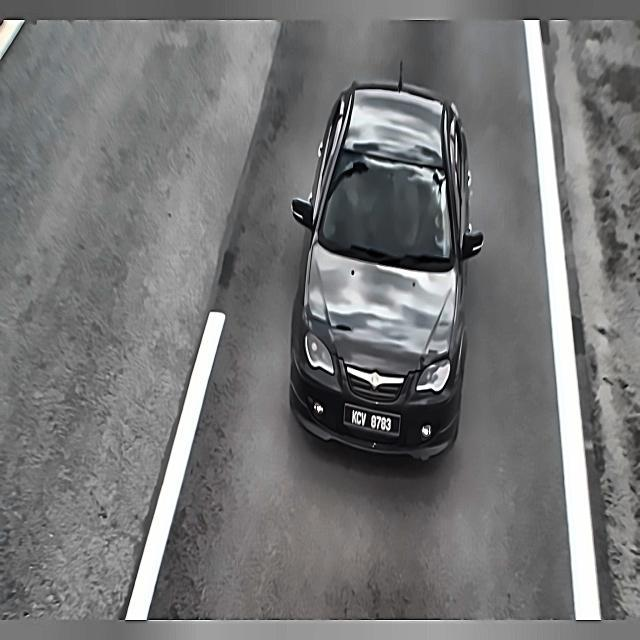car: (341, 400, 407, 443)
